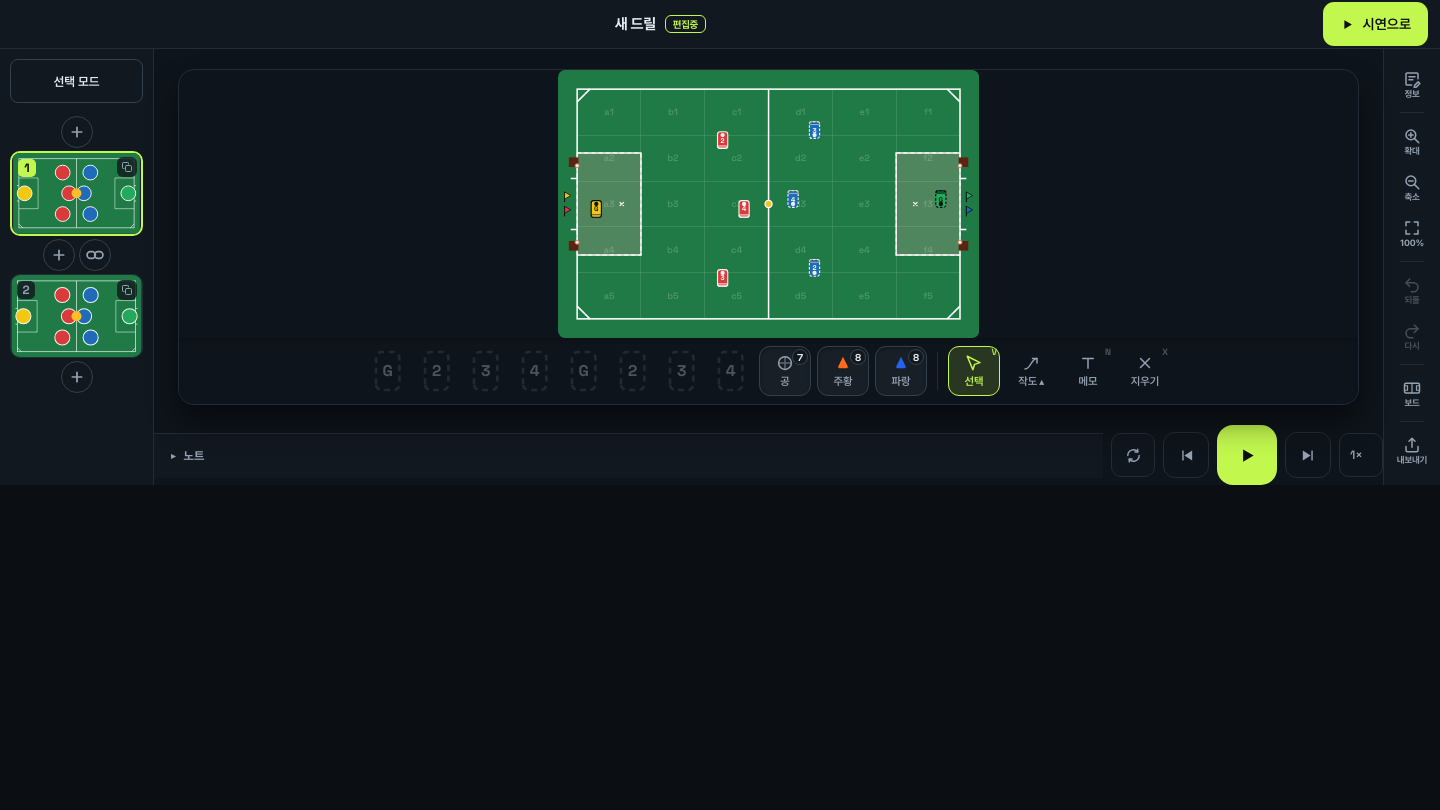
Test case: 드릴 편집의 [비우기] — 뜻은 하나다: 지금 스텝만 › 이미 빈 스텝에서는 꺼져 있다 — 눌러도 안 변할 버튼을 살려 두지 않는다
Check: the navigation bar named "도구" is shown, box [179,338,1358,404]
Click the button with aria-label "보드 설정" at (1412, 393), box [1390,371,1434,415]
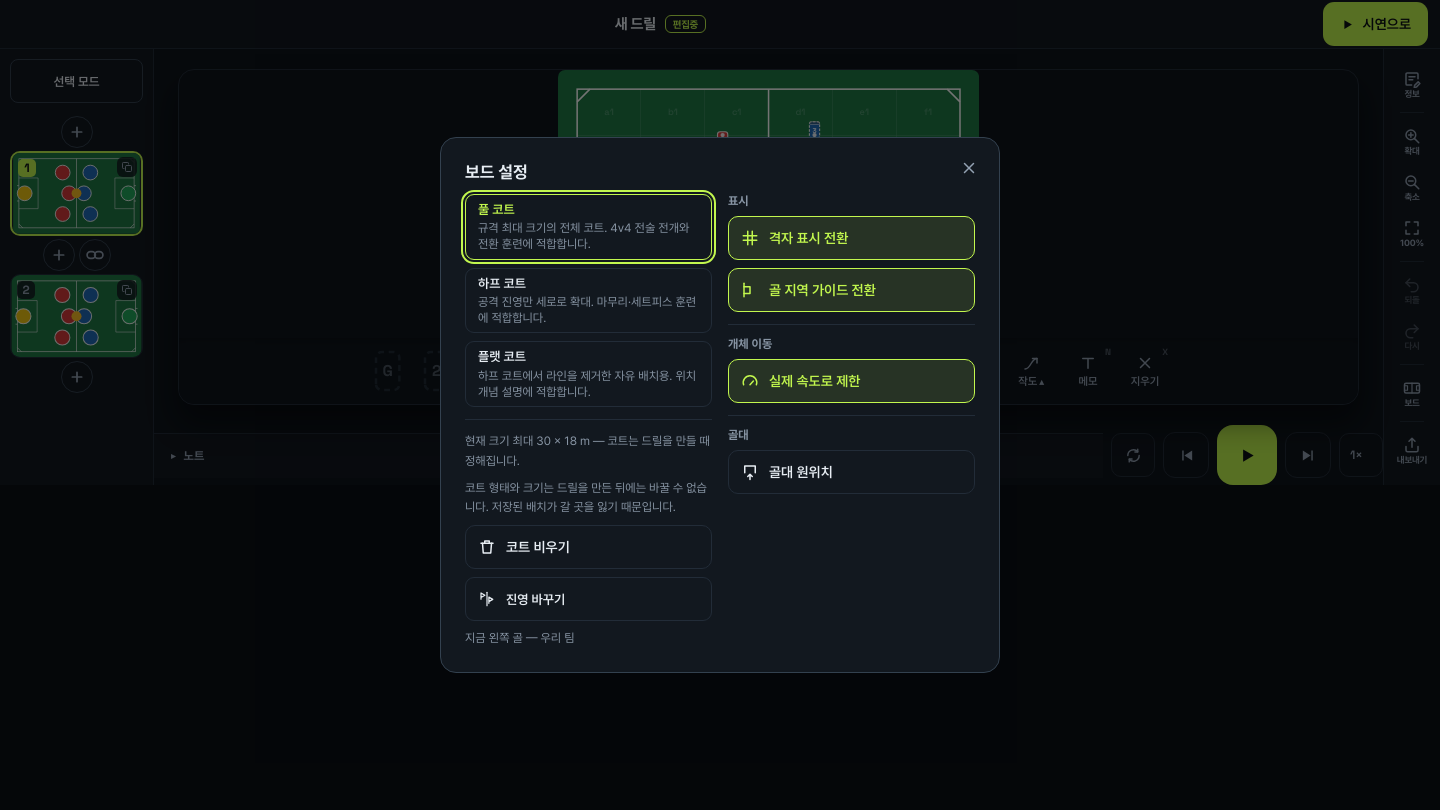
Click the button "코트 비우기" at (588, 547), box [465,525,712,569]
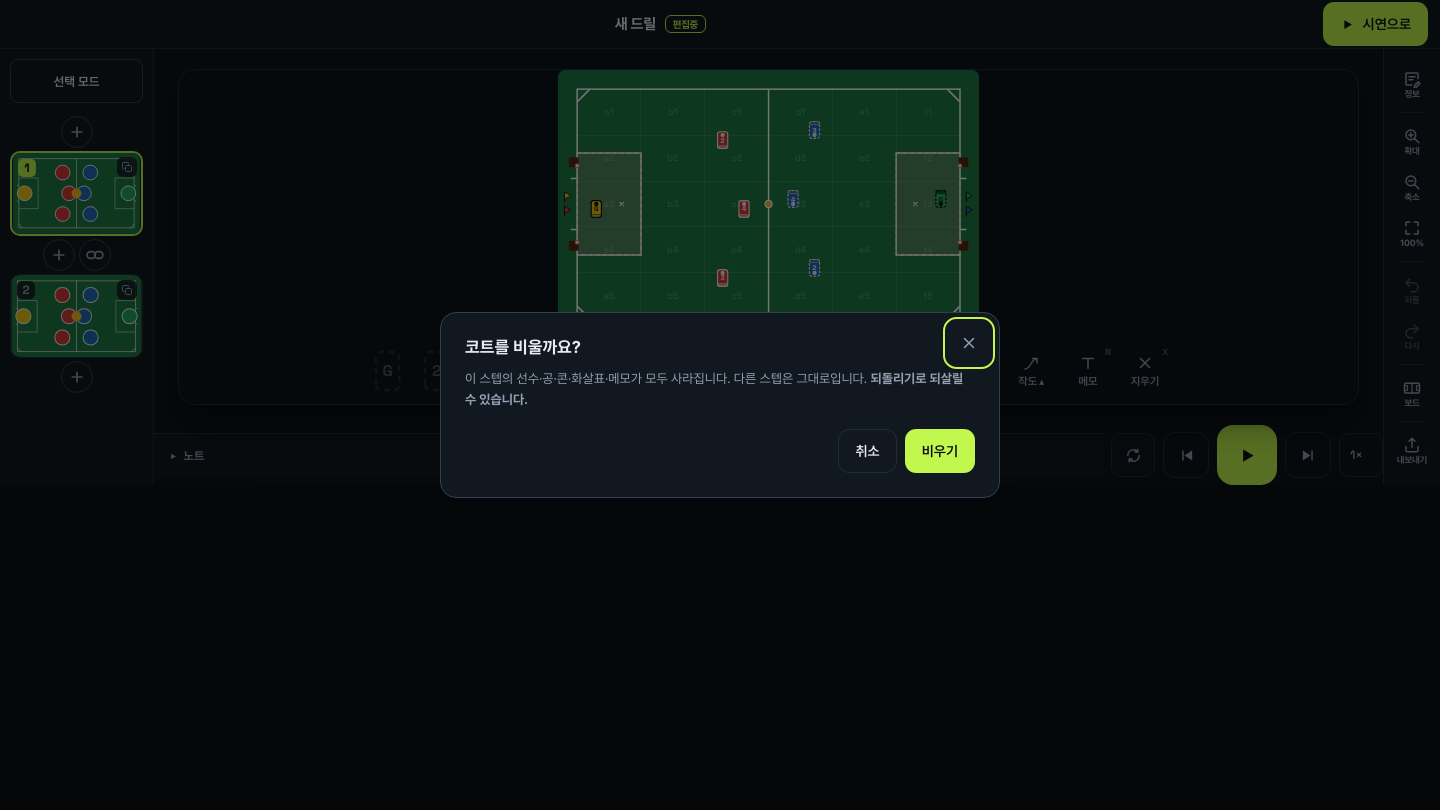
Click the button "비우기" at (940, 451), box [905,429,975,473]
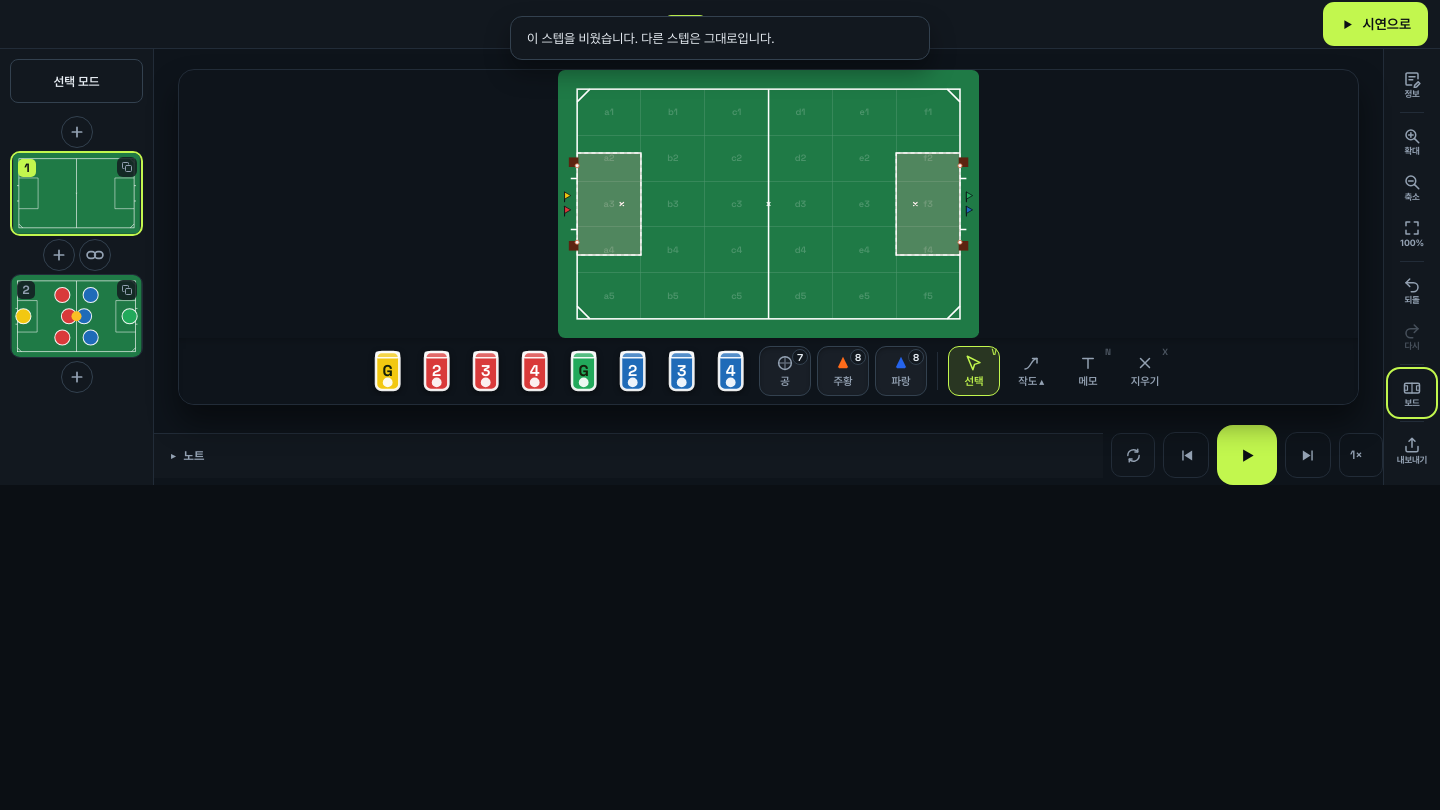
Click the button with aria-label "보드 설정" at (1412, 393), box [1390,371,1434,415]
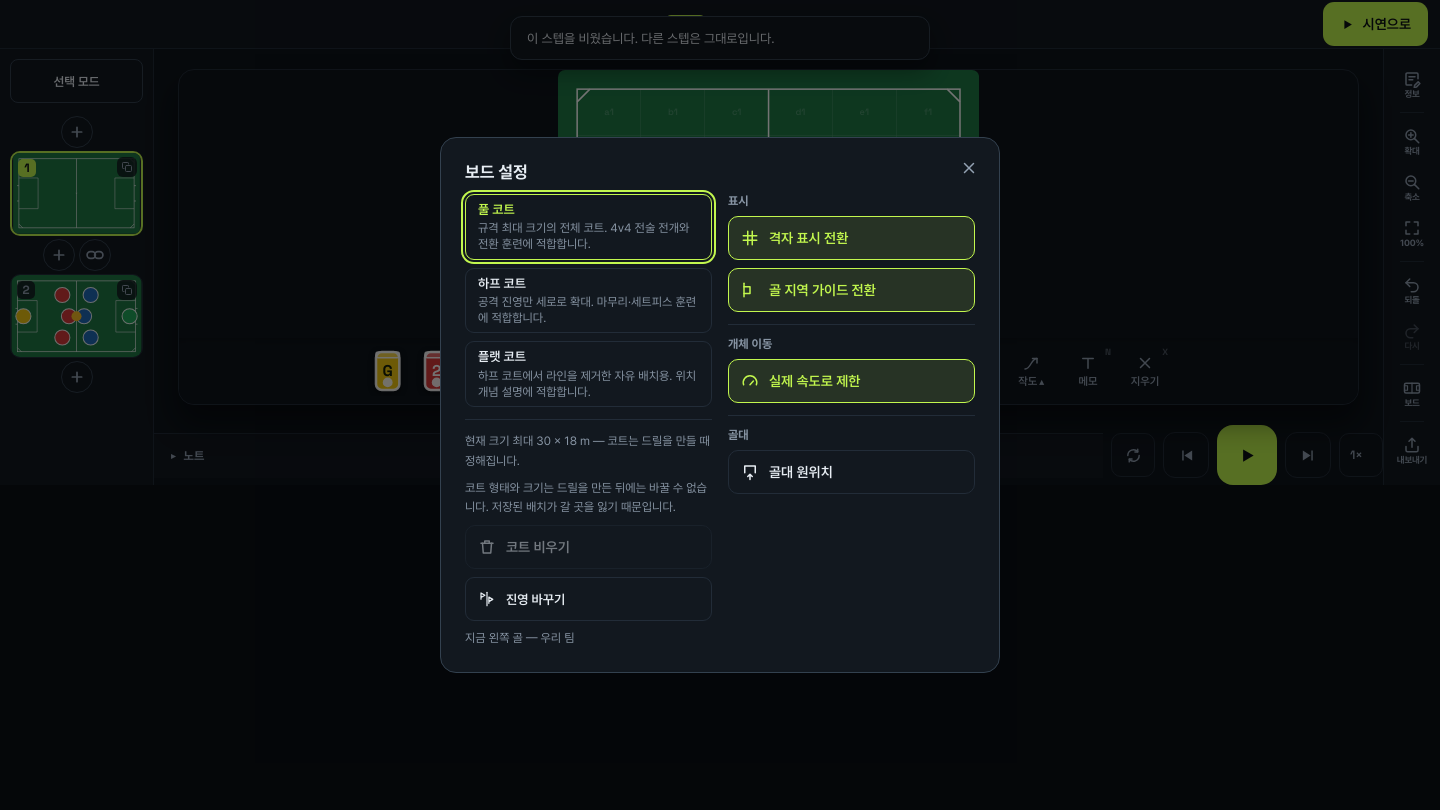
Check: the button "코트 비우기" is disabled, box [465,525,712,569]
